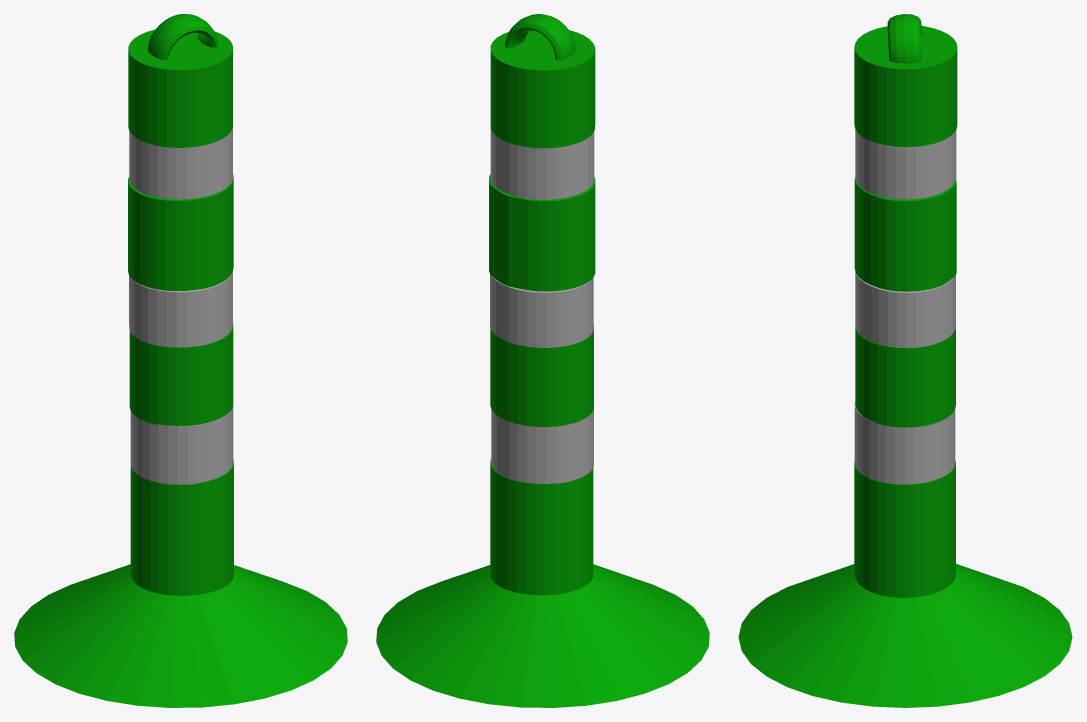
Rendered from gomu_pole2.obj.
3 renders of one model, left to right at view 1: azimuth 30°, elevation 25°; view 2: azimuth 150°, elevation 25°; view 3: azimuth 270°, elevation 25°, orthographic.
Visible parts, largest first — view 1: Cube; view 2: Cube; view 3: Cube.
Part boxes in pixels (<box>): Cube: <box>14,14,347,707</box>; Cube: <box>376,14,709,707</box>; Cube: <box>738,14,1072,707</box>.
Size of the model in its own units: 1.35 by 2.76 by 1.35.
